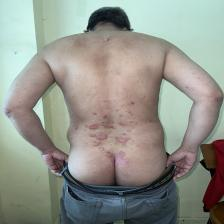Psoriasis vulgaris: (104, 153, 131, 168), (105, 121, 127, 130), (115, 109, 134, 119), (116, 136, 132, 146), (84, 123, 98, 133), (91, 111, 108, 119), (72, 121, 81, 131), (93, 141, 101, 148), (129, 120, 139, 125), (89, 133, 96, 138), (136, 144, 142, 149), (129, 147, 135, 151), (122, 132, 127, 136)
